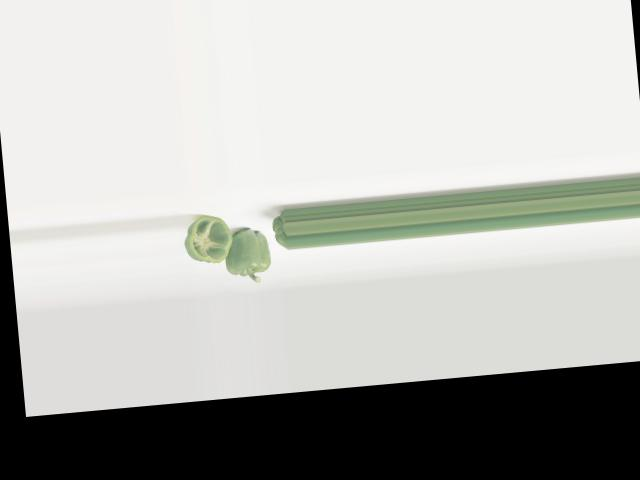bell_pepper: (179, 210, 237, 270)
